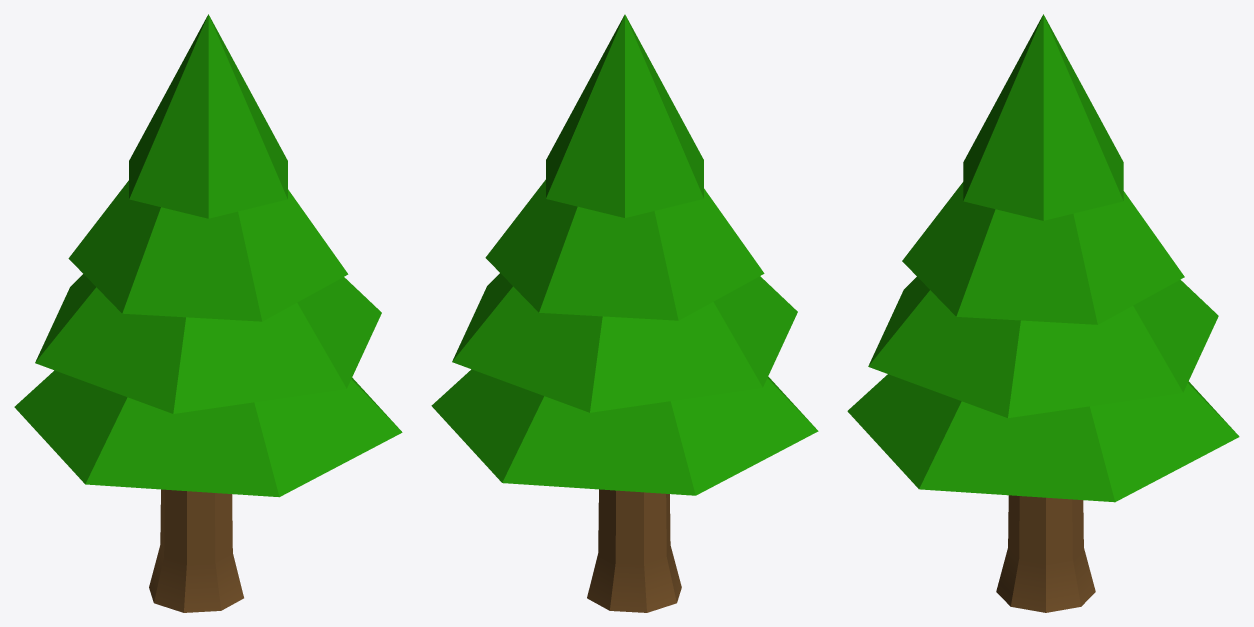
Rendered from tallpinemodel.fbx.
3 views of the same model, side by side, from view 1: azimuth 30°, elevation 25°; view 2: azimuth 150°, elevation 25°; view 3: azimuth 270°, elevation 25° (orthographic).
Parts seen in each view (by area): view 1: pCone4, pCone3, pCone2, pCone1, pCylinder7; view 2: pCone4, pCone3, pCone2, pCone1, pCylinder7; view 3: pCone4, pCone3, pCone2, pCone1, pCylinder7.
Boxes of the visible parts, left/top/right/bottom form: pCone4: left=14, top=370, right=402, bottom=497; pCone3: left=35, top=274, right=381, bottom=413; pCone2: left=68, top=180, right=348, bottom=321; pCone1: left=129, top=14, right=287, bottom=218; pCylinder7: left=149, top=489, right=243, bottom=612; pCone4: left=431, top=369, right=818, bottom=495; pCone3: left=452, top=273, right=797, bottom=412; pCone2: left=485, top=179, right=764, bottom=320; pCone1: left=546, top=14, right=703, bottom=217; pCylinder7: left=587, top=489, right=681, bottom=612; pCone4: left=847, top=374, right=1239, bottom=502; pCone3: left=868, top=277, right=1218, bottom=418; pCone2: left=902, top=182, right=1184, bottom=324; pCone1: left=963, top=14, right=1123, bottom=220; pCylinder7: left=996, top=495, right=1095, bottom=612.
Size of the model in its own units: 11.9 by 20.67 by 12.61.
